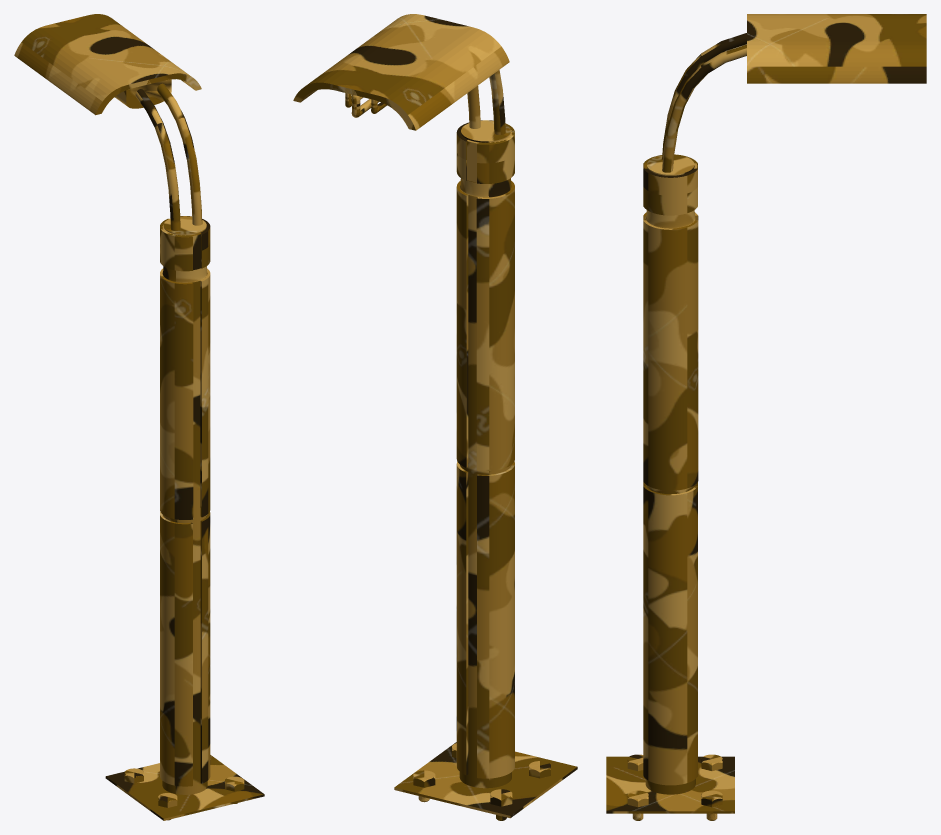
Rendered from Lamp.obj.
3 renders of one model, left to right at view 1: azimuth 30°, elevation 25°; view 2: azimuth 150°, elevation 25°; view 3: azimuth 270°, elevation 25°, orthographic. The views are drawn at different scales.
Parts seen in each view (by area): view 1: Plane.002; view 2: Plane.002; view 3: Plane.002.
Part boxes in pixels (x1=…): Plane.002: x1=14, y1=14, x2=264, y2=820; Plane.002: x1=293, y1=14, x2=577, y2=820; Plane.002: x1=606, y1=14, x2=926, y2=820.
Bounding box in the file's own units: 0.4833 × 3.02 × 1.14.
